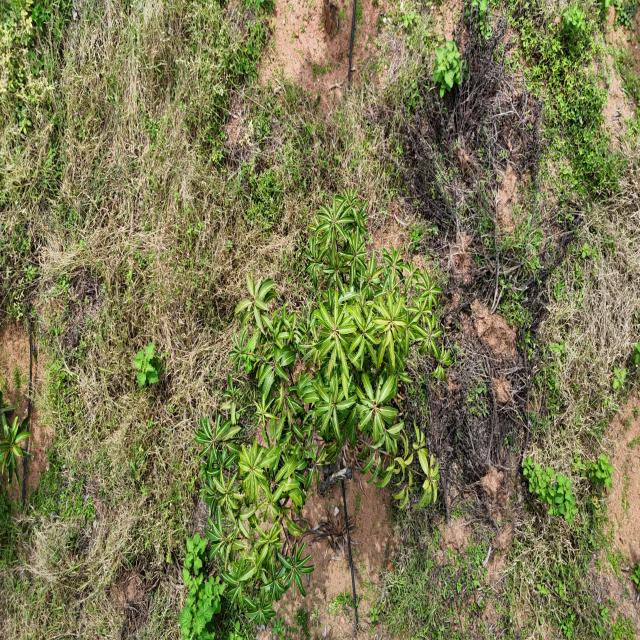mangoTree: (193, 188, 453, 627), (0, 410, 36, 492)
